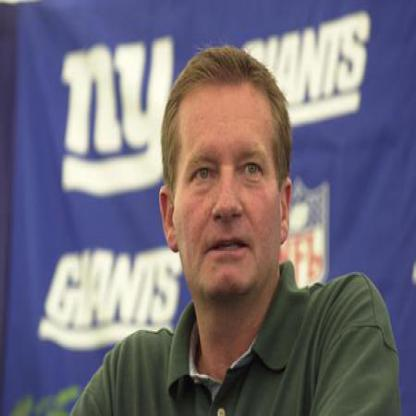face: (168, 49, 285, 304)
